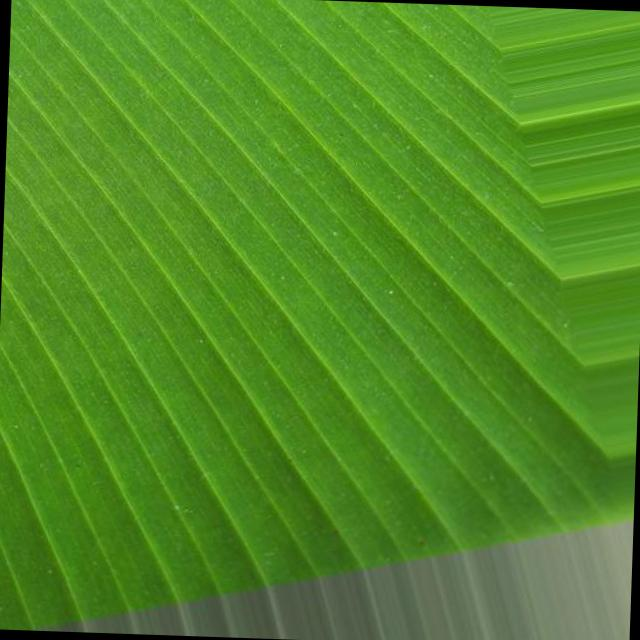Banana_Healthy: (80, 76, 462, 506)
